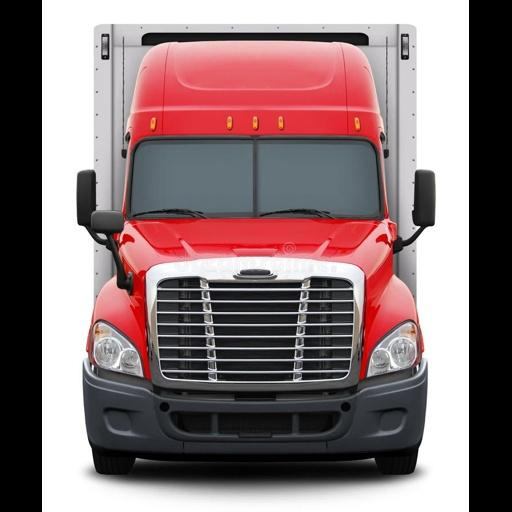truck: (69, 18, 442, 480)
